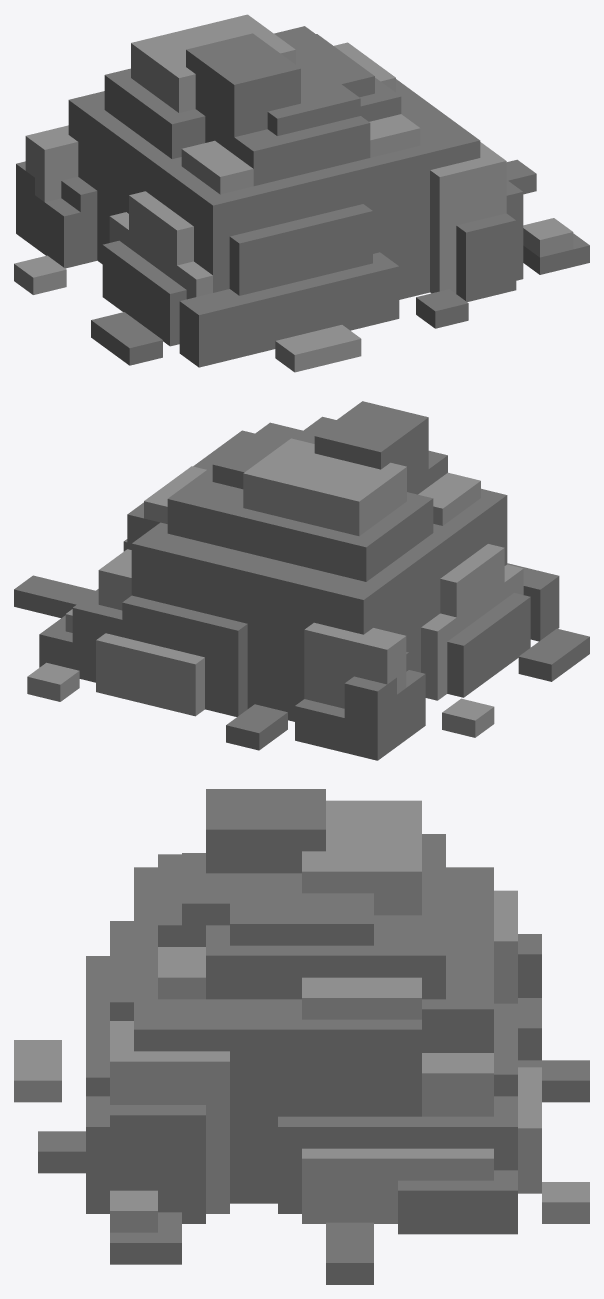
The model's file is Pedra.fbx.
3 renders of one model, top to bottom at view 1: azimuth 30°, elevation 25°; view 2: azimuth 150°, elevation 25°; view 3: azimuth 270°, elevation 25°, orthographic. The views are drawn at different scales.
Parts seen in each view (by area): view 1: Mesh; view 2: Mesh; view 3: Mesh.
Part boxes in pixels (<box>): Mesh: <box>14,14,589,372</box>; Mesh: <box>14,401,589,760</box>; Mesh: <box>14,789,589,1284</box>.
Size of the model in its own units: 72.5 by 32.5 by 60.
1 material, 1 textured.
